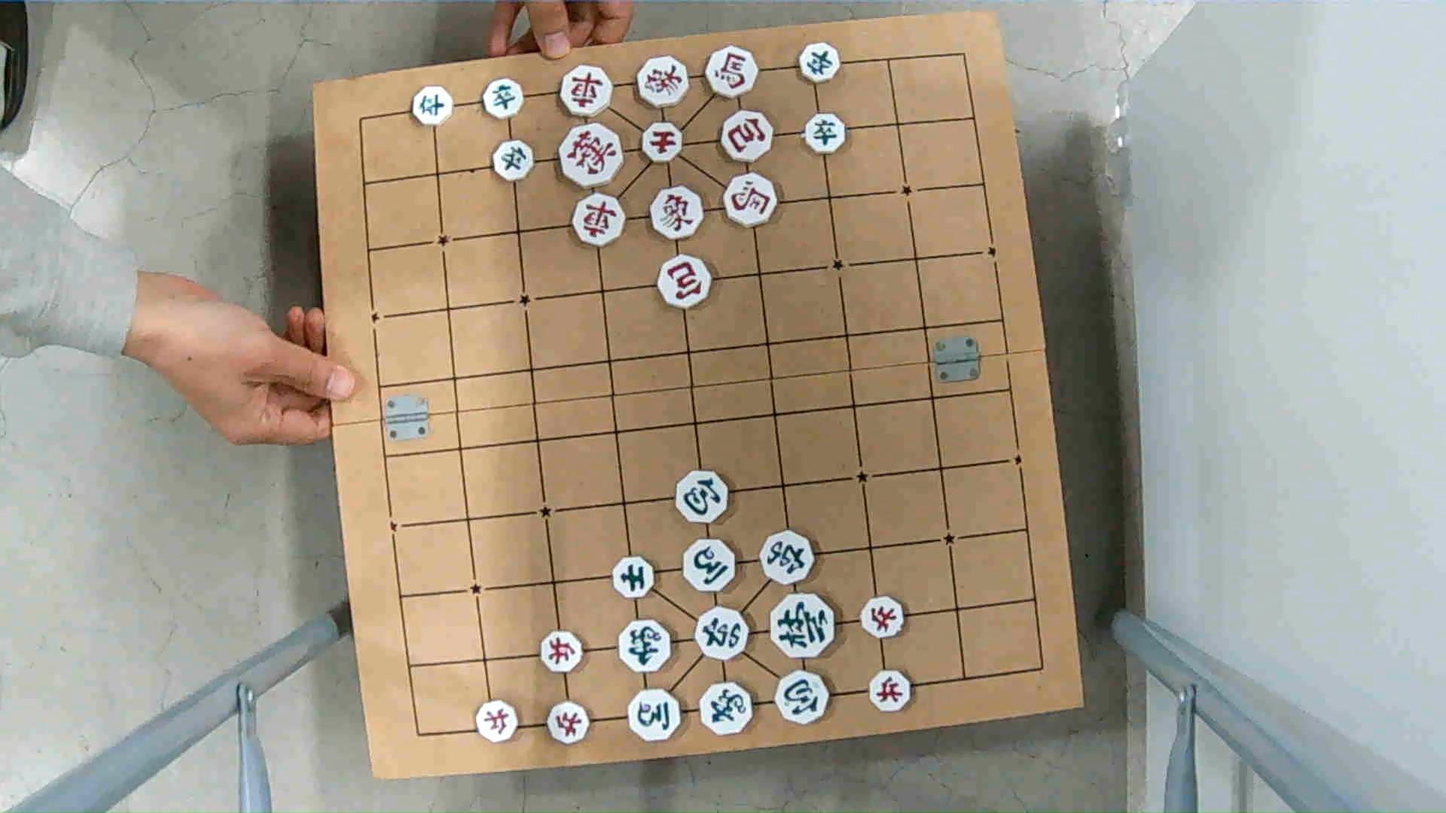cha_green: (694, 609, 751, 659), (760, 534, 815, 585)
cha_red: (572, 196, 626, 245), (559, 69, 612, 115)
jol_green: (802, 116, 847, 154), (493, 140, 536, 178), (795, 44, 839, 81), (481, 80, 523, 118), (410, 87, 452, 123)
jol_red: (545, 701, 593, 745), (871, 669, 912, 713), (476, 702, 521, 741), (860, 599, 905, 638), (541, 632, 586, 670)
ma_green: (627, 691, 684, 741), (682, 540, 738, 589)
ma_red: (724, 176, 779, 225), (704, 48, 758, 96)
po_green: (773, 671, 829, 721), (674, 473, 731, 522)
po_red: (659, 257, 715, 307), (721, 114, 776, 162)
sa_green: (611, 555, 655, 600)
sa_red: (640, 123, 683, 160)
sang_green: (617, 620, 673, 677), (700, 682, 753, 738)
sang_red: (648, 187, 706, 241), (637, 59, 692, 107)
wang_green: (770, 592, 836, 660)
wang_red: (562, 126, 629, 184)
